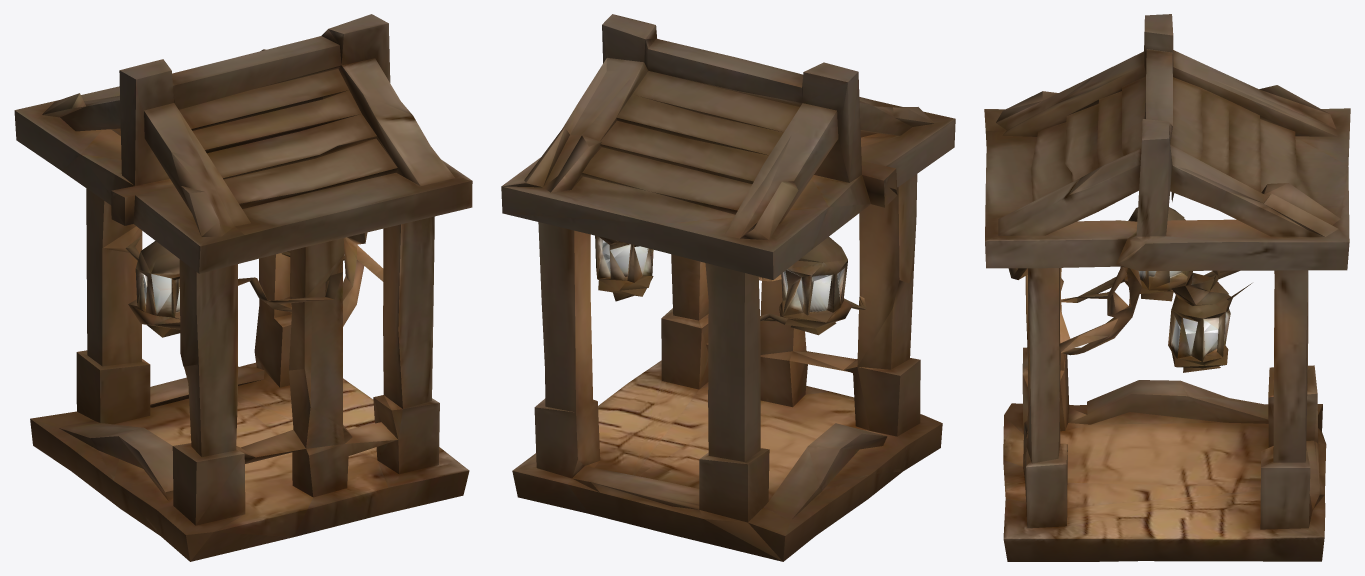
Rendered from m2MineBeam.glb.
3 views of the same model, side by side, from view 1: azimuth 30°, elevation 25°; view 2: azimuth 150°, elevation 25°; view 3: azimuth 270°, elevation 25° (orthographic).
Visible parts, largest first — view 1: model; view 2: model; view 3: model.
Part boxes in pixels (bbox=[...]): model: bbox=[14, 14, 472, 561]; model: bbox=[501, 14, 955, 561]; model: bbox=[984, 14, 1350, 561].
Bounding box in the file's own units: 1.35 × 1.89 × 1.48.
Materials: 1 (1 with a texture image).
